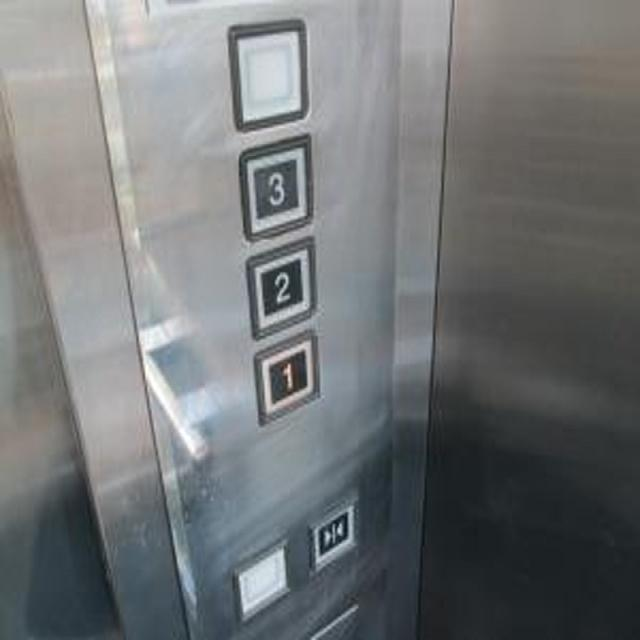1: (252, 328, 322, 429)
2: (243, 236, 315, 341)
3: (238, 134, 313, 238)
close: (305, 488, 358, 579)
empty: (226, 16, 309, 128)
unknown: (229, 533, 289, 632)
